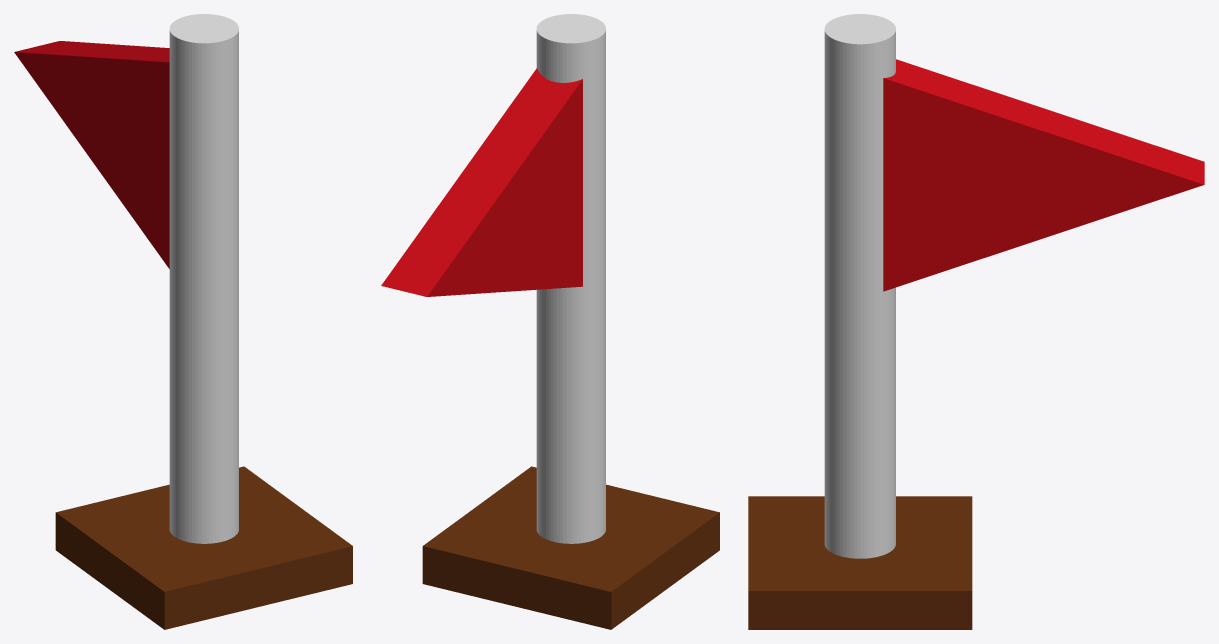
File: flag.fbx
3 views of the same model, side by side, from view 1: azimuth 30°, elevation 25°; view 2: azimuth 150°, elevation 25°; view 3: azimuth 270°, elevation 25° (orthographic). The views are drawn at different scales.
Parts seen in each view (by area): view 1: Cube; view 2: Cube; view 3: Cube.
Boxes of the visible parts, bbox=[...] form: Cube: bbox=[14, 14, 352, 629]; Cube: bbox=[381, 14, 719, 629]; Cube: bbox=[748, 14, 1204, 629].
Bounding box in the file's own units: 95.09 × 260 × 194.
